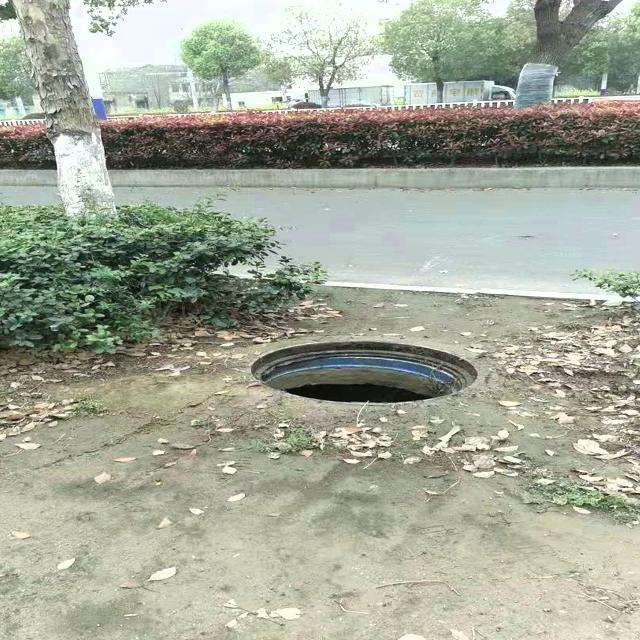lose: (231, 329, 500, 413)
